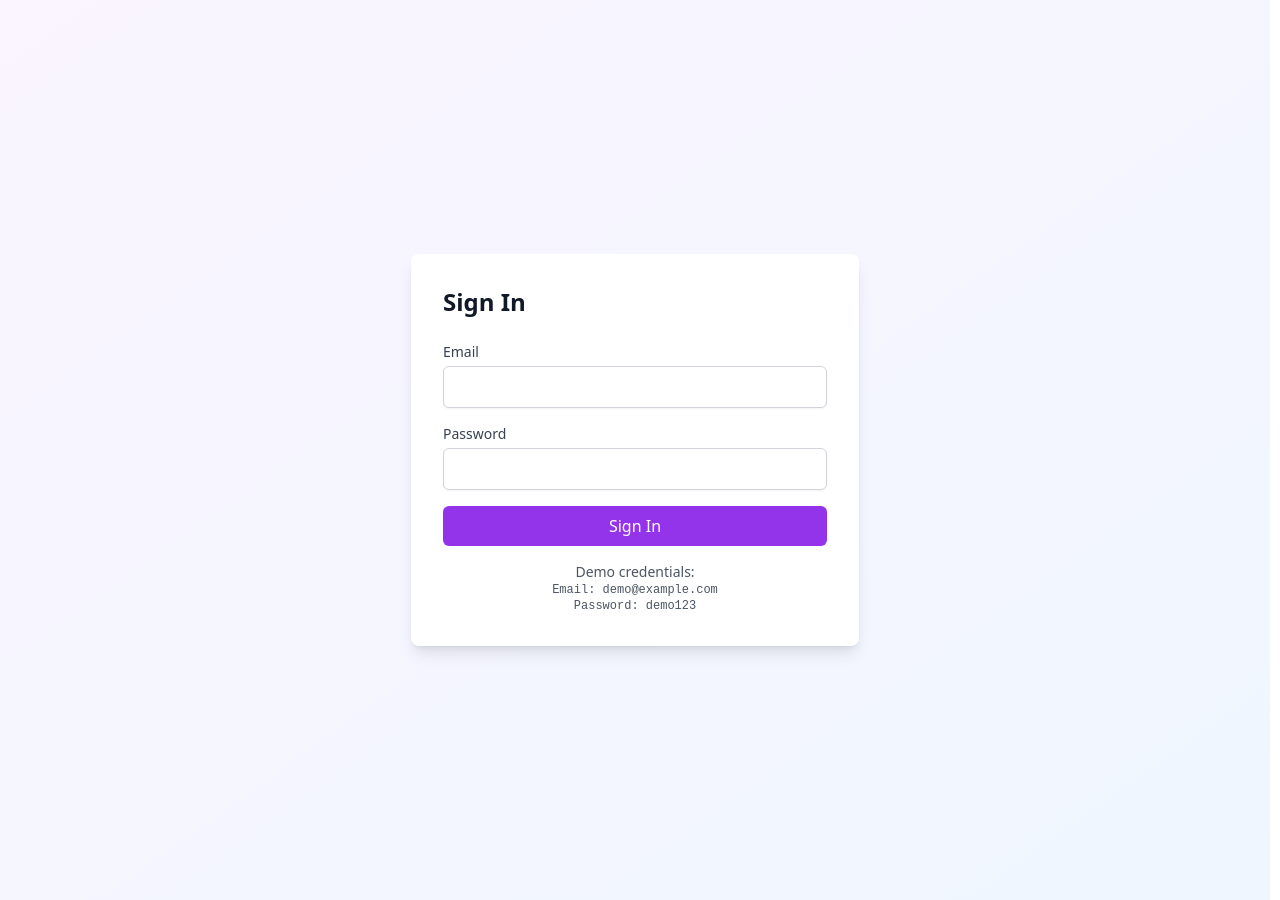
LoginForm E2E Integration Tests › Complete Authentication Security Flow › should handle failed authentication attempts with security measures
The width and height of the screenshot is (1280, 900).
Type "test@example.com" into the field labelled "Email".
click(635, 387); type("test@example.com")  # box [443,366,827,408]
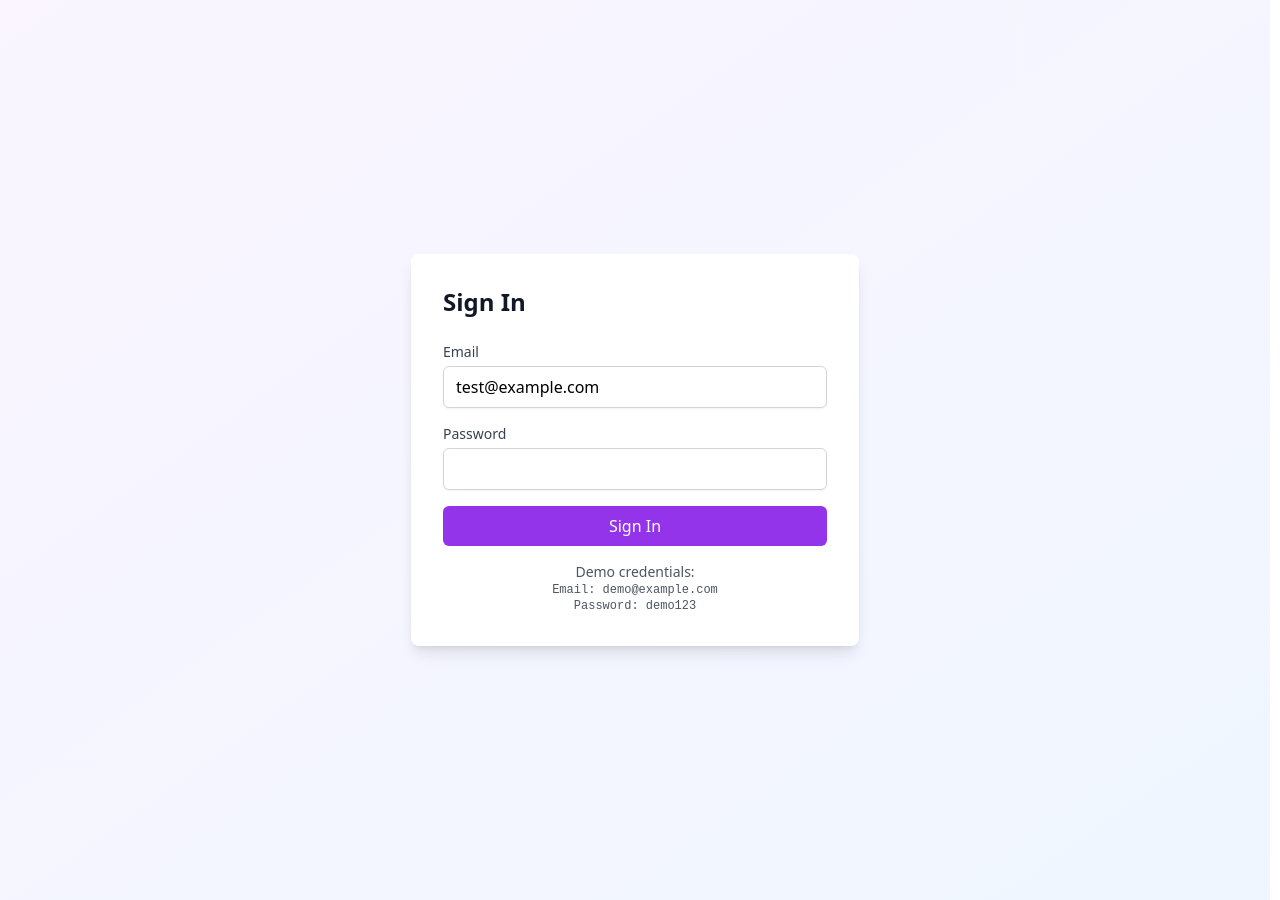
Type "wrongpassword" into the password field labelled "Password".
click(635, 469); type("wrongpassword")  # box [443,448,827,490]
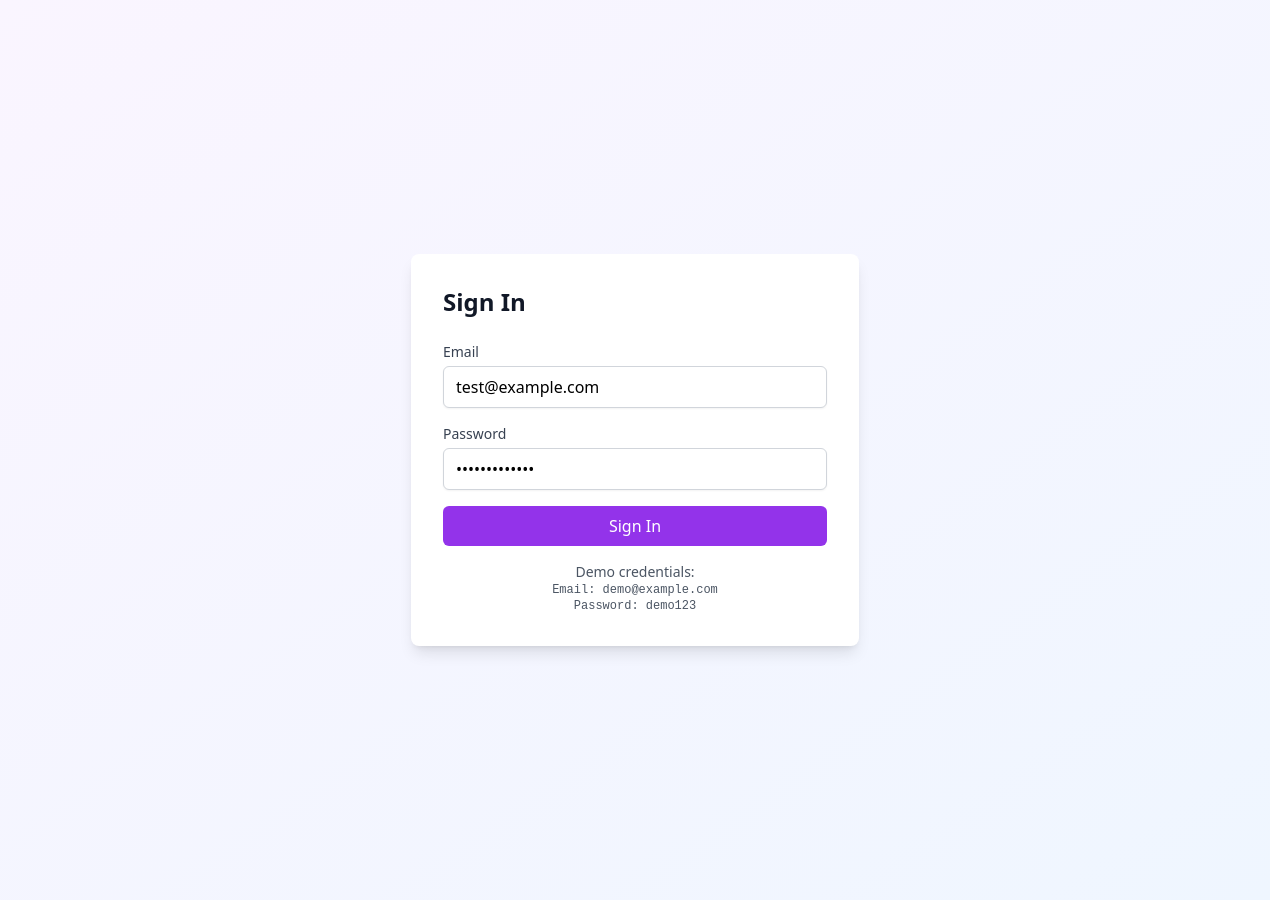
Click the button "Sign In".
click(635, 526)  # box [443,506,827,546]
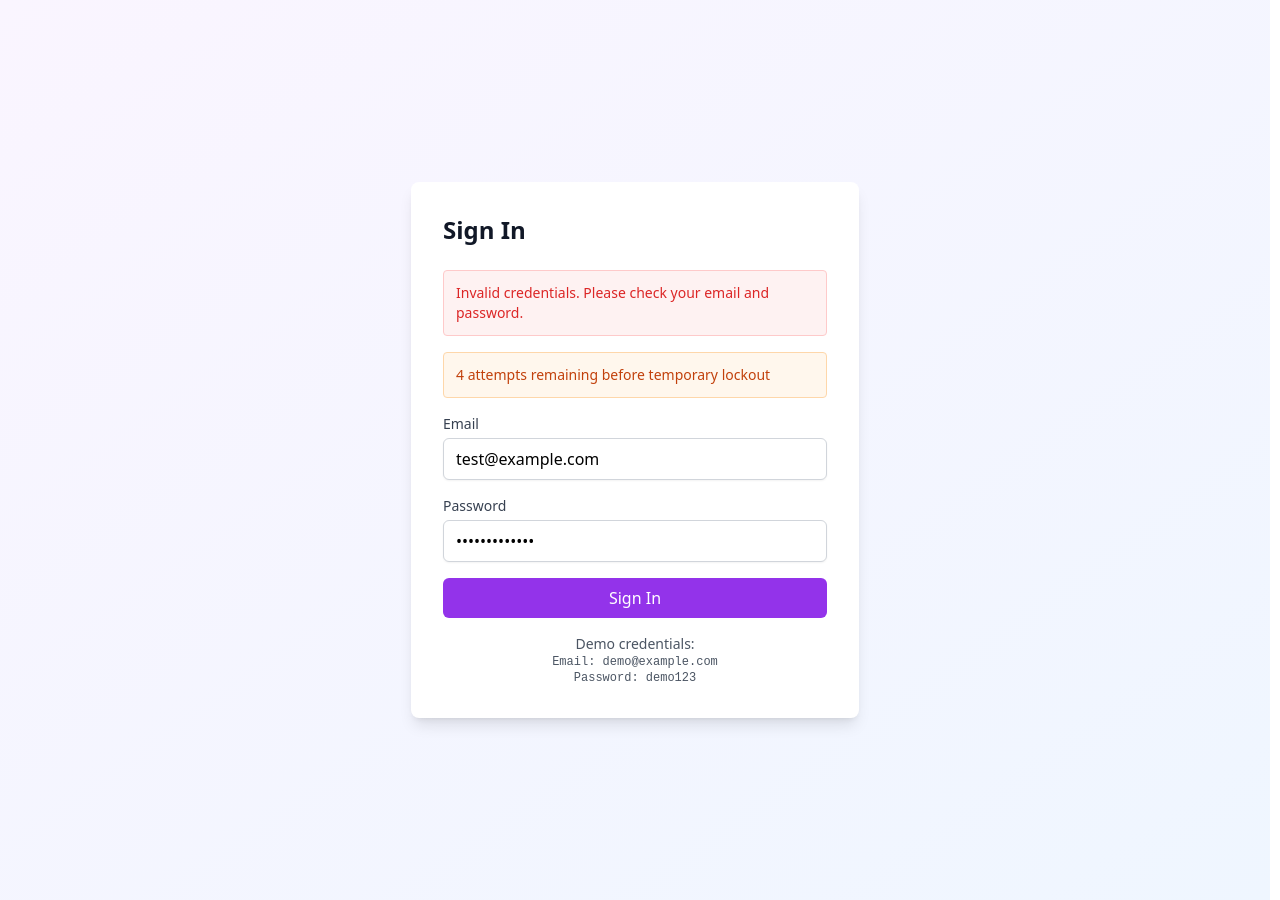
expect the text "Invalid credentials. Please check your email and password." is shown: met, box [443,270,827,336]
expect the text "4 attempts remaining before temporary lockout" is shown: met, box [443,352,827,398]
